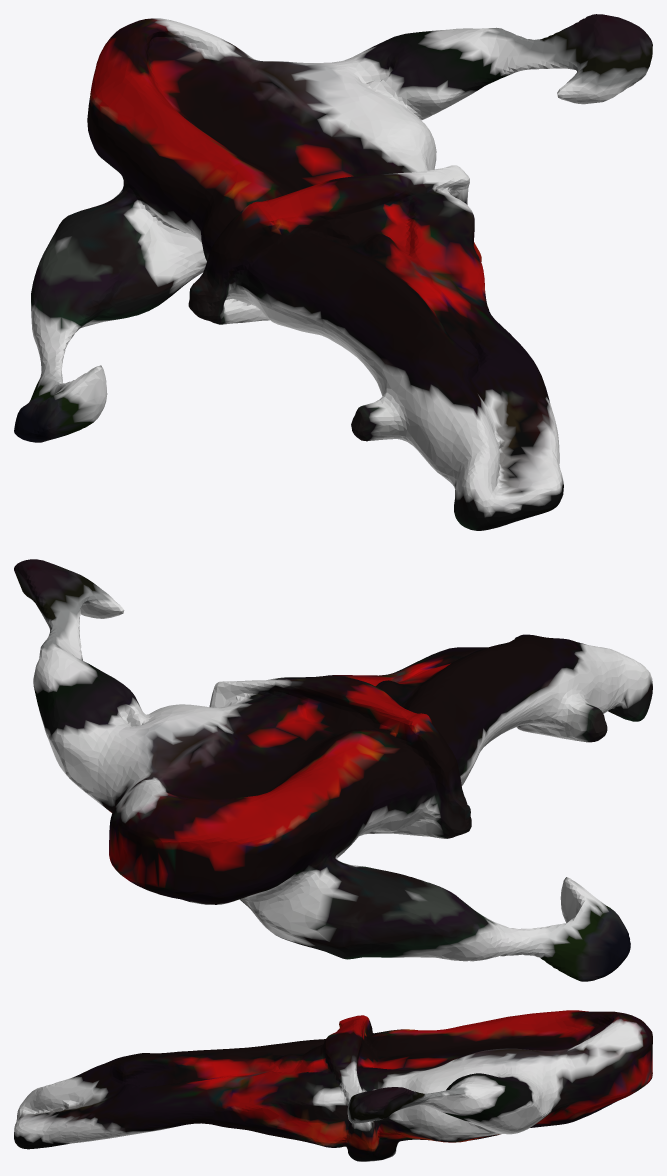
File: lightning_bow.glb
3 views of the same model, one above another, from view 1: azimuth 30°, elevation 25°; view 2: azimuth 150°, elevation 25°; view 3: azimuth 270°, elevation 25° (orthographic). The views are drawn at different scales.
Parts seen in each view (by area): view 1: geometry_0; view 2: geometry_0; view 3: geometry_0.
Part boxes in pixels (x1,y1,x2,y2): geometry_0: (14,14,652,530); geometry_0: (14,559,652,981); geometry_0: (14,1010,652,1161).
Size of the model in its own units: 0.5312 by 0.2273 by 0.6412.
